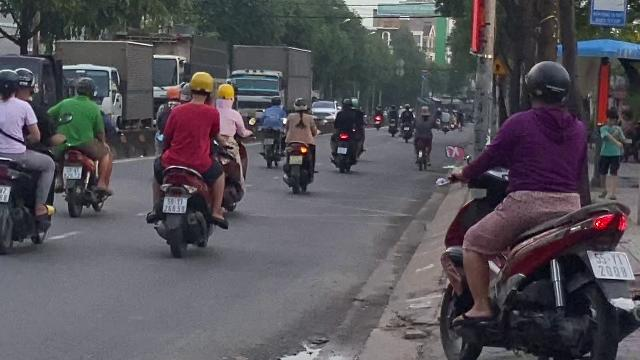helmet: (522, 60, 572, 108), (188, 71, 216, 101), (0, 68, 20, 99), (72, 76, 96, 98), (13, 68, 34, 92), (214, 82, 233, 104)
licenseplate: (588, 252, 634, 280), (163, 196, 187, 212), (63, 166, 81, 178)
motorcyclist: (432, 58, 640, 358), (143, 70, 241, 256), (0, 66, 56, 254), (48, 76, 116, 216)
